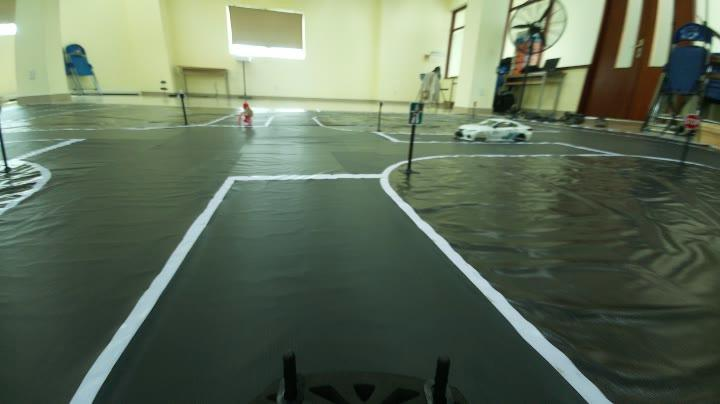highway_exit: (402, 97, 431, 128)
